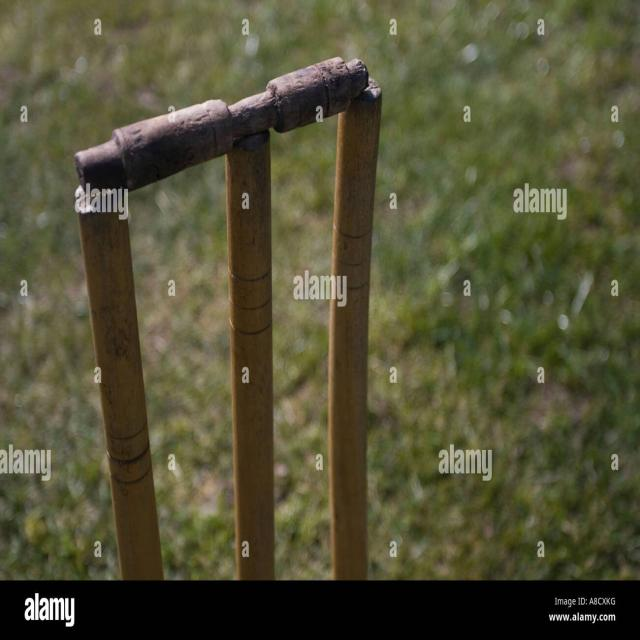stump: (72, 50, 386, 583)
